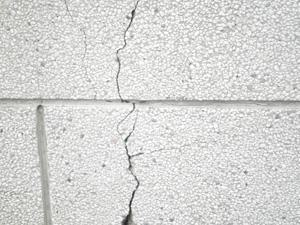Crack: (115, 1, 140, 225)
